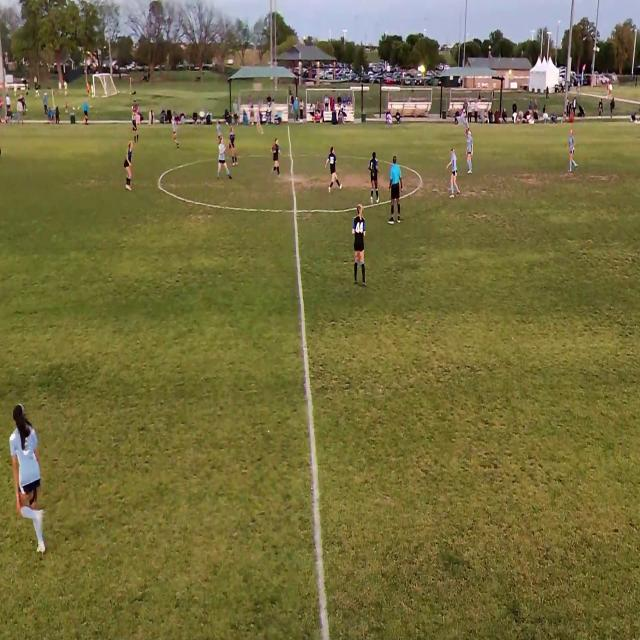team1: (354, 206, 370, 290), (369, 151, 382, 206), (124, 137, 136, 190), (272, 139, 282, 184), (229, 122, 238, 165), (132, 115, 140, 144), (83, 98, 90, 125)
team2: (8, 404, 50, 569), (448, 146, 460, 197), (327, 147, 340, 193), (218, 136, 230, 182), (569, 127, 578, 172), (466, 130, 474, 180), (172, 115, 180, 147), (218, 120, 225, 151), (256, 109, 264, 135), (464, 118, 469, 131)
